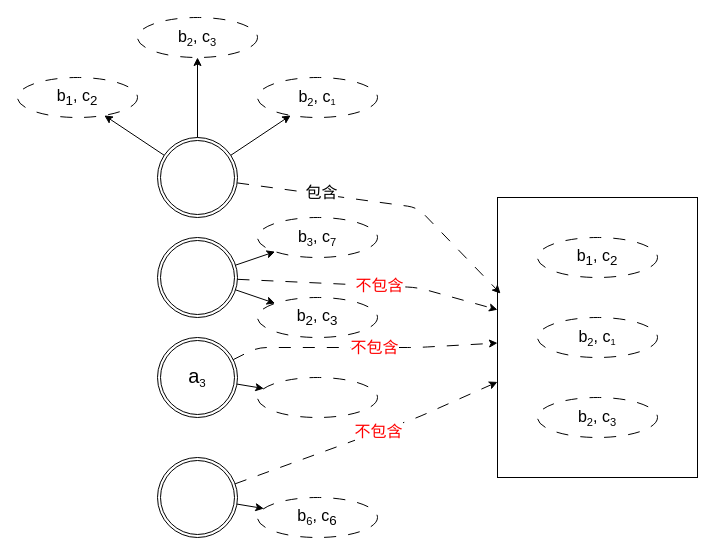
The diagram is 715 pixels wide and 555 high, and some of its shapes have lost their labels. The shapes that lost their labels are listed below. From the top down, each one's centre as x and y in pixels, then its label:
At pixel 197 177: "a 1".
At pixel 197 277: "a 2".
At pixel 317 397: "b 4 , c 6".
At pixel 197 497: "a 4".
